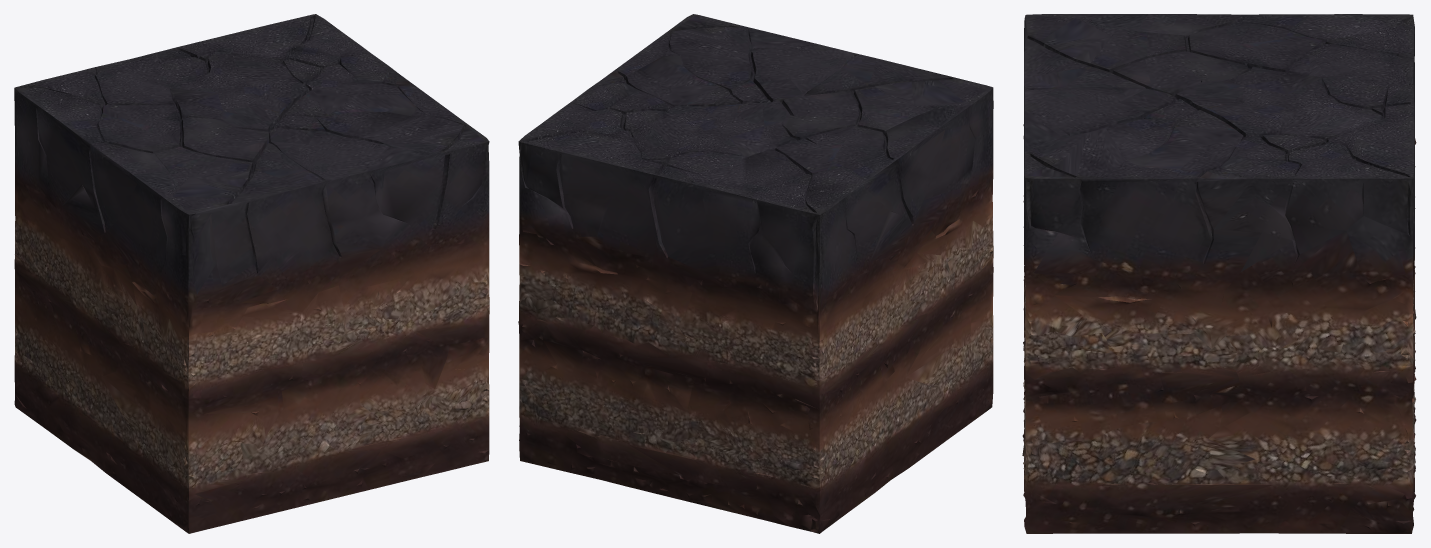
File: block_soil_layers_idle.glb
The picture shows the model from 3 angles, left to right: view 1: azimuth 30°, elevation 25°; view 2: azimuth 150°, elevation 25°; view 3: azimuth 270°, elevation 25°; orthographic projection. The views are drawn at different scales.
Parts seen in each view (by area): view 1: tripo_node_c4c344da-3520-4eb1-8ecc-c56d5283c324; view 2: tripo_node_c4c344da-3520-4eb1-8ecc-c56d5283c324; view 3: tripo_node_c4c344da-3520-4eb1-8ecc-c56d5283c324.
Part boxes in pixels (x1,y1,x2,y2): tripo_node_c4c344da-3520-4eb1-8ecc-c56d5283c324: [14, 14, 489, 533]; tripo_node_c4c344da-3520-4eb1-8ecc-c56d5283c324: [518, 14, 993, 533]; tripo_node_c4c344da-3520-4eb1-8ecc-c56d5283c324: [1022, 14, 1416, 533].
Size of the model in its own units: 1 by 0.9997 by 1.
Materials: 1 (1 with a texture image).
